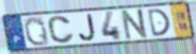4: (101, 10, 124, 42)
C: (46, 15, 76, 45)
D: (146, 8, 172, 38)
J: (78, 13, 98, 43)
N: (120, 7, 150, 41)
Q: (23, 15, 51, 47)
